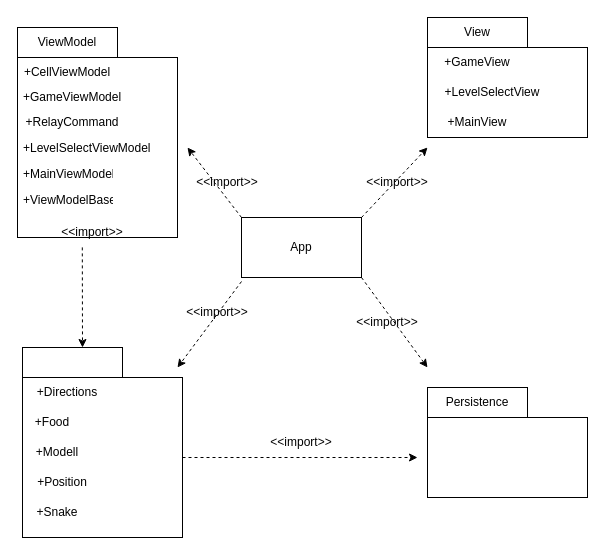
This 605x555 diagram has some shape labels left out. The shapes that lost their labels are listed below. From the top down, each one's centre as x and y in pixels, then its label:
At pixel 72 362: "Model".
At pixel 507 457: "+LevelDataAccess".
